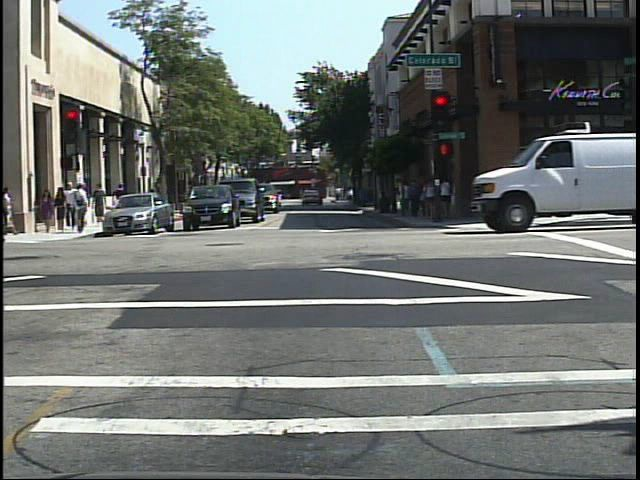person: (69, 181, 91, 237)
